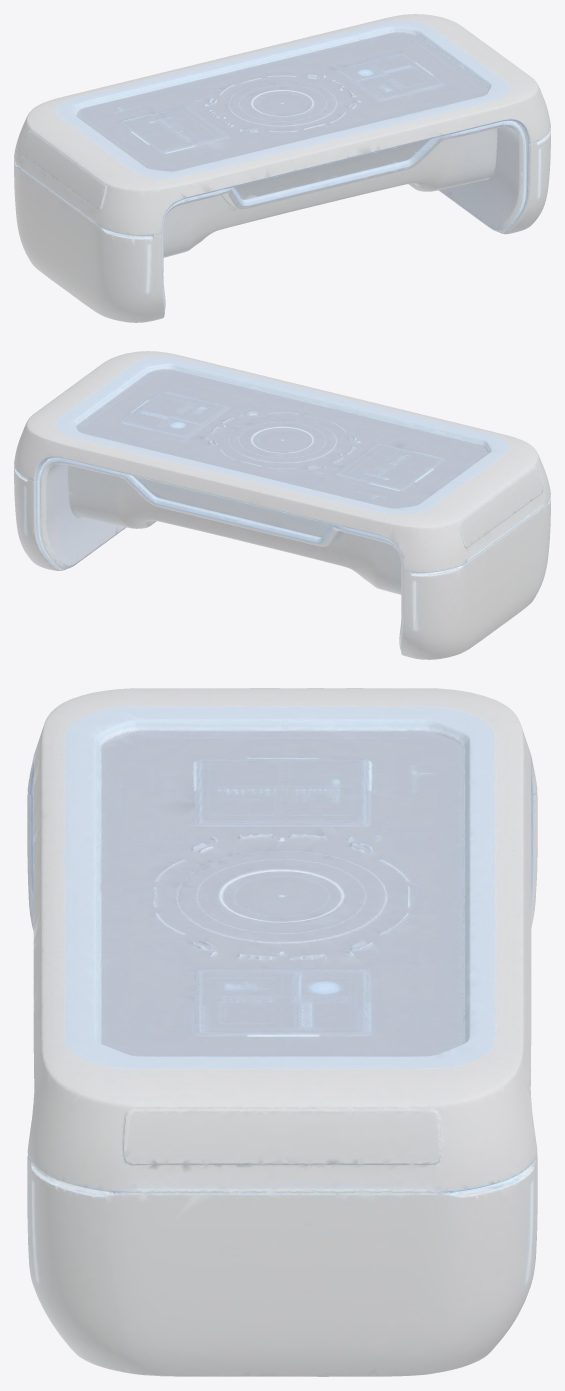
File: table-lumen.glb
3 views of the same model, one above another, from view 1: azimuth 30°, elevation 25°; view 2: azimuth 150°, elevation 25°; view 3: azimuth 270°, elevation 25° (orthographic). The views are drawn at different scales.
Size of the model in its own units: 1.9 by 0.577 by 0.9348.
1 material, 1 textured.
